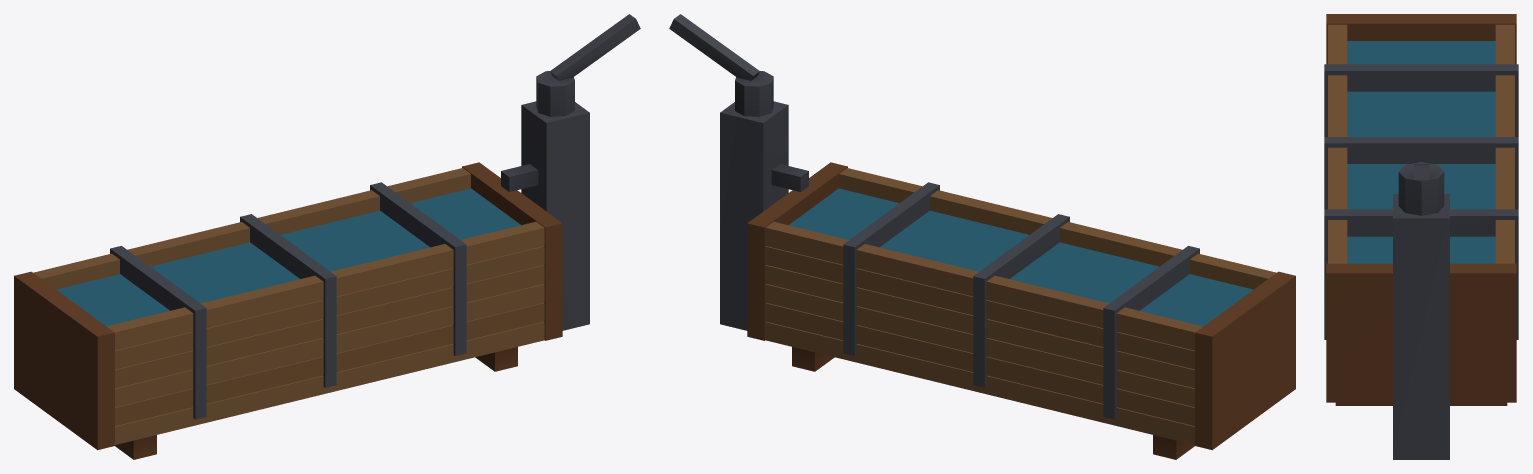
The model's file is trough.glb.
3 views of the same model, side by side, from view 1: azimuth 30°, elevation 25°; view 2: azimuth 150°, elevation 25°; view 3: azimuth 270°, elevation 25° (orthographic). The views are drawn at different scales.
Visible parts, largest first — view 1: trough; view 2: trough; view 3: trough.
Part boxes in pixels (x1,y1,x2,y2): trough: (14,14,640,459); trough: (669,14,1295,459); trough: (1324,14,1518,459).
Bounding box in the file's own units: 4.03 × 1.89 × 1.02.
